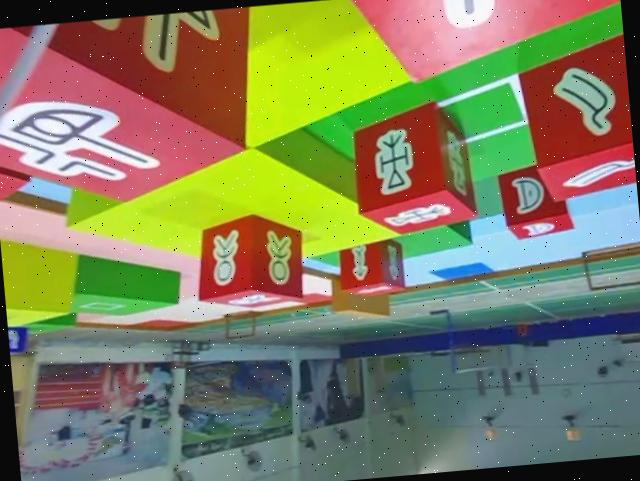R2 Real: (0, 5, 266, 213), (512, 35, 637, 203), (349, 104, 477, 237), (188, 210, 307, 310), (498, 163, 574, 242), (337, 236, 405, 297)
